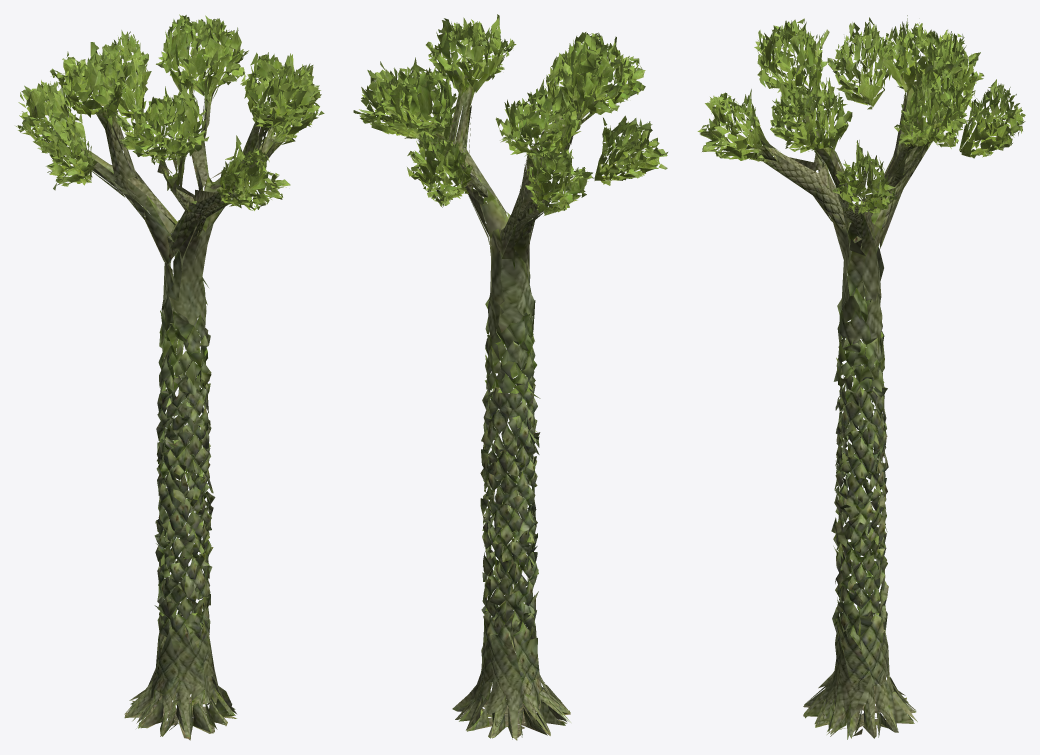
Rendered from lepidodendron.glb.
3 views of the same model, side by side, from view 1: azimuth 30°, elevation 25°; view 2: azimuth 150°, elevation 25°; view 3: azimuth 270°, elevation 25° (orthographic).
Visible parts, largest first — view 1: Mesh_0; view 2: Mesh_0; view 3: Mesh_0.
Part boxes in pixels (box(x1,y1,x2,y2)): Mesh_0: box(16, 14, 324, 740); Mesh_0: box(353, 14, 667, 740); Mesh_0: box(697, 15, 1025, 739).
Bounding box in the file's own units: 0.4504 × 1 × 0.4437.
Materials: 1 (1 with a texture image).
